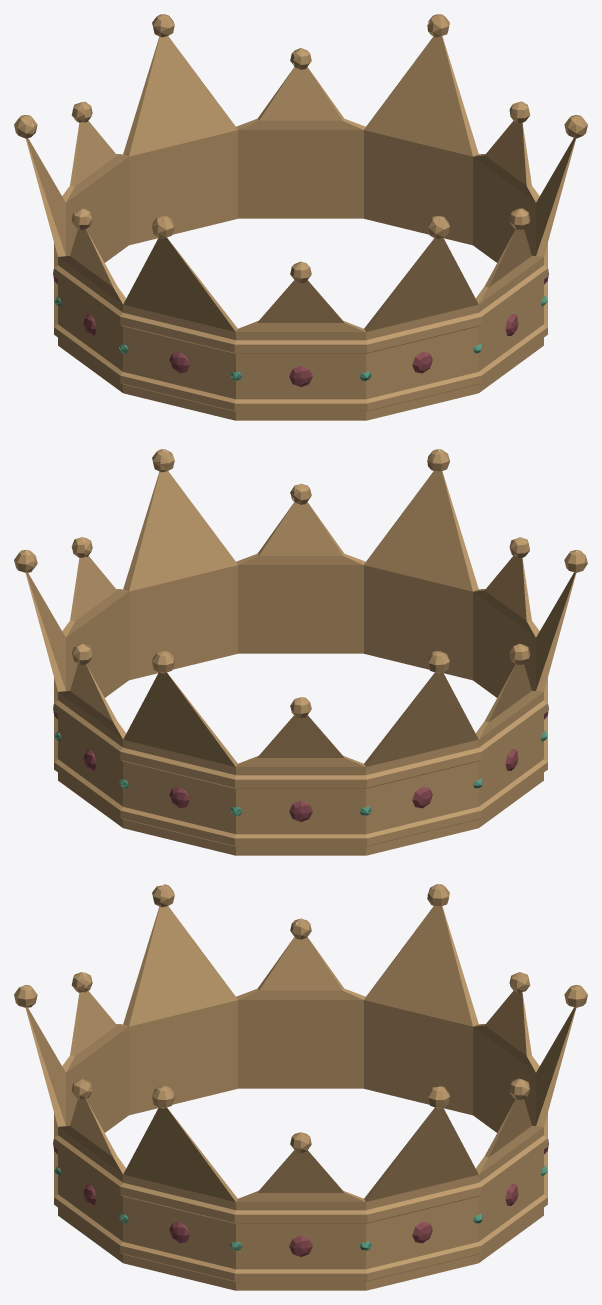
File: Crown_Poly_by_Google_0seQ0m.glb
3 views of the same model, one above another, from view 1: azimuth 30°, elevation 25°; view 2: azimuth 150°, elevation 25°; view 3: azimuth 270°, elevation 25° (orthographic).
Visible parts, largest first — view 1: Node; view 2: Node; view 3: Node.
Boxes of the visible parts, <box> form: Node: <box>14,14,587,420</box>; Node: <box>14,449,587,855</box>; Node: <box>14,884,587,1290</box>.
Bounding box in the file's own units: 0.2 × 0.0848 × 0.2178.
